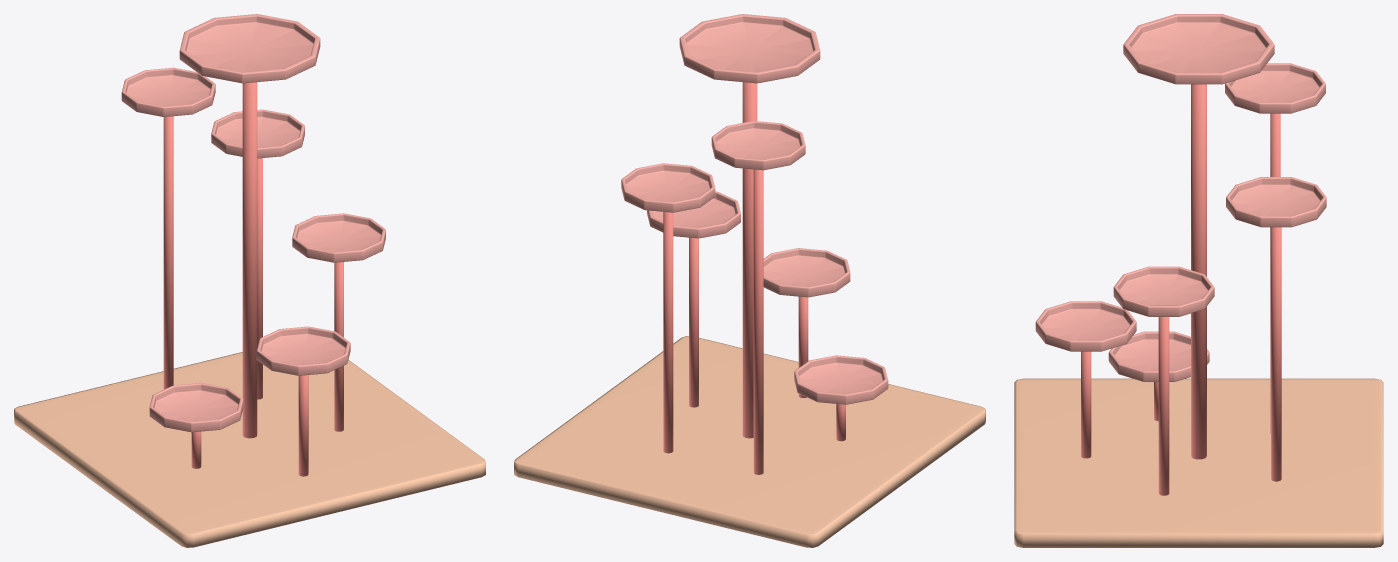
Rendered from cat tower.fbx.
The picture shows the model from 3 angles, left to right: view 1: azimuth 30°, elevation 25°; view 2: azimuth 150°, elevation 25°; view 3: azimuth 270°, elevation 25°; orthographic projection. The views are drawn at different scales.
Visible parts, largest first — view 1: Cat Tower; view 2: Cat Tower; view 3: Cat Tower.
Boxes of the visible parts, x1,y1,x2,y2 form: Cat Tower: (14, 14, 485, 547); Cat Tower: (514, 14, 985, 547); Cat Tower: (1014, 14, 1383, 547).
Size of the model in its own units: 487 by 621 by 487.
